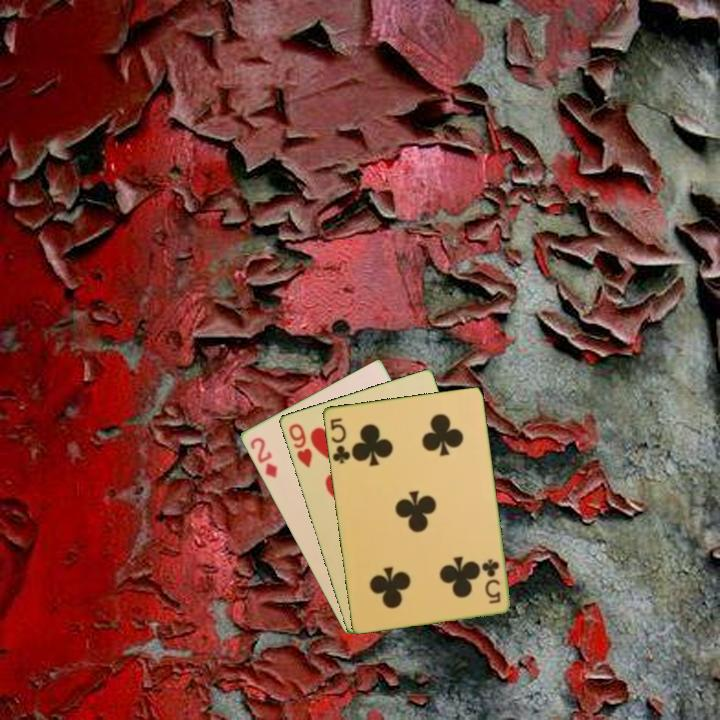2d: (246, 433, 280, 481)
5c: (326, 414, 353, 466), (479, 555, 503, 606)
9h: (285, 420, 315, 471)
